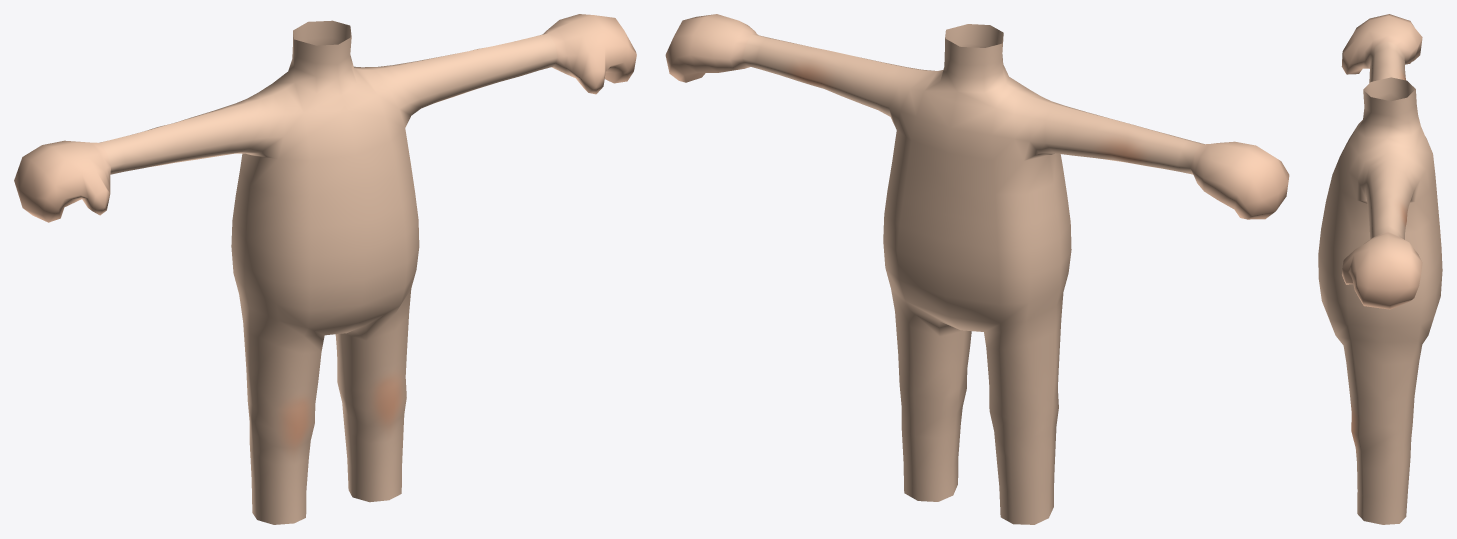
File: Body_White_3.fbx
3 views of the same model, side by side, from view 1: azimuth 30°, elevation 25°; view 2: azimuth 150°, elevation 25°; view 3: azimuth 270°, elevation 25° (orthographic). The views are drawn at different scales.
Parts seen in each view (by area): view 1: Body_White_3; view 2: Body_White_3; view 3: Body_White_3.
Part boxes in pixels (x1,y1,x2,y2): Body_White_3: (14,14,636,524); Body_White_3: (665,14,1289,524); Body_White_3: (1318,14,1442,524).
Bounding box in the file's own units: 130 × 95.87 × 26.46.
